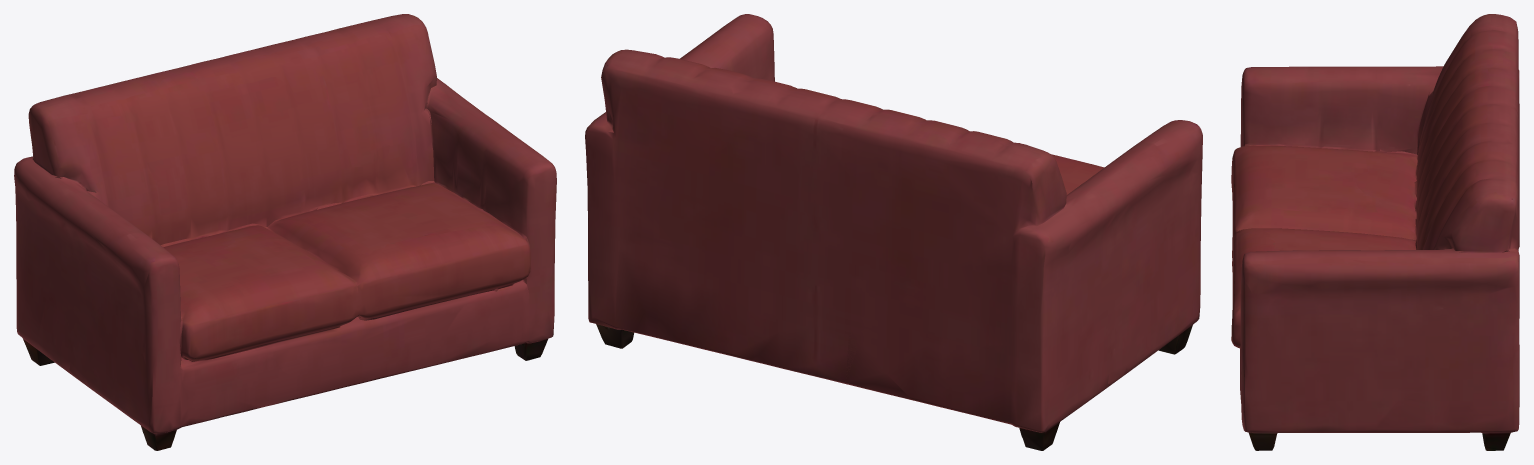
The model's file is sofa.glb.
3 views of the same model, side by side, from view 1: azimuth 30°, elevation 25°; view 2: azimuth 150°, elevation 25°; view 3: azimuth 270°, elevation 25° (orthographic). The views are drawn at different scales.
Parts seen in each view (by area): view 1: sofa; view 2: sofa; view 3: sofa.
Part boxes in pixels (x1,y1,x2,y2): sofa: [14, 14, 556, 450]; sofa: [585, 14, 1202, 450]; sofa: [1231, 14, 1519, 450].
Bounding box in the file's own units: 1.78 × 1.05 × 1.07.
Materials: 1 (1 with a texture image).
